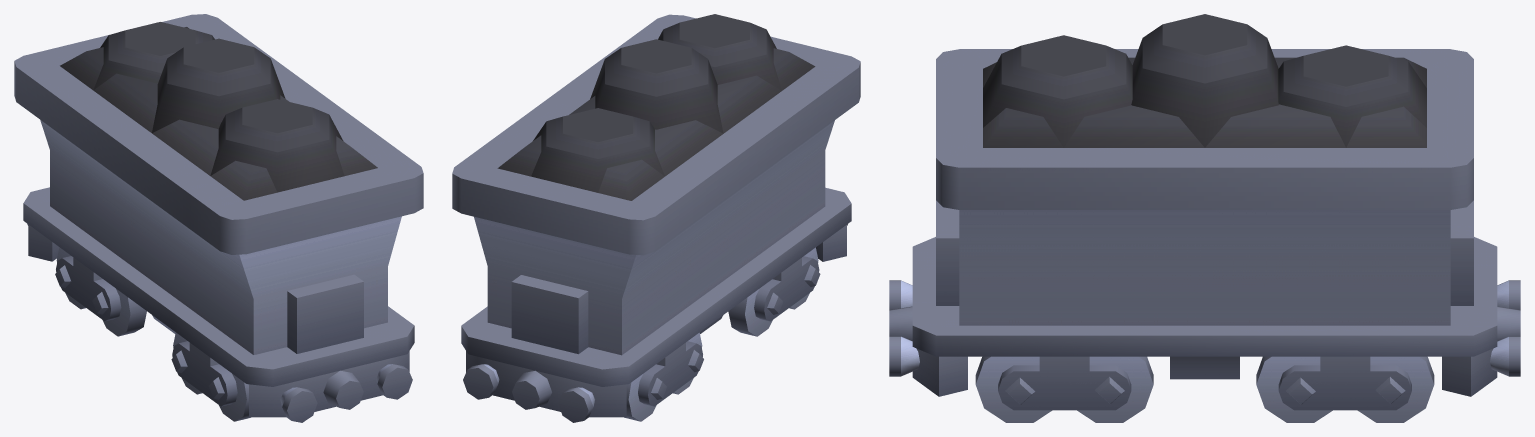
File: train-carriage-coal.glb
3 views of the same model, side by side, from view 1: azimuth 30°, elevation 25°; view 2: azimuth 150°, elevation 25°; view 3: azimuth 270°, elevation 25° (orthographic). The views are drawn at different scales.
Parts seen in each view (by area): view 1: train-carriage-coal; view 2: train-carriage-coal; view 3: train-carriage-coal.
Part boxes in pixels (box(x1,y1,x2,y2)): train-carriage-coal: box(14, 14, 423, 422); train-carriage-coal: box(452, 14, 860, 422); train-carriage-coal: box(889, 14, 1520, 422).
Size of the model in its own units: 1.2 by 1.65 by 2.7.
1 material, 1 textured.
